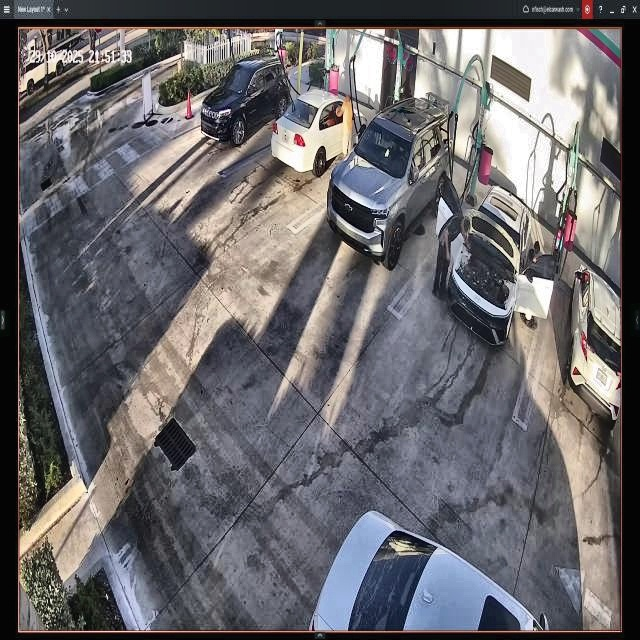Car: (327, 98, 453, 259), (443, 178, 550, 345), (272, 91, 368, 177), (200, 56, 291, 146)
